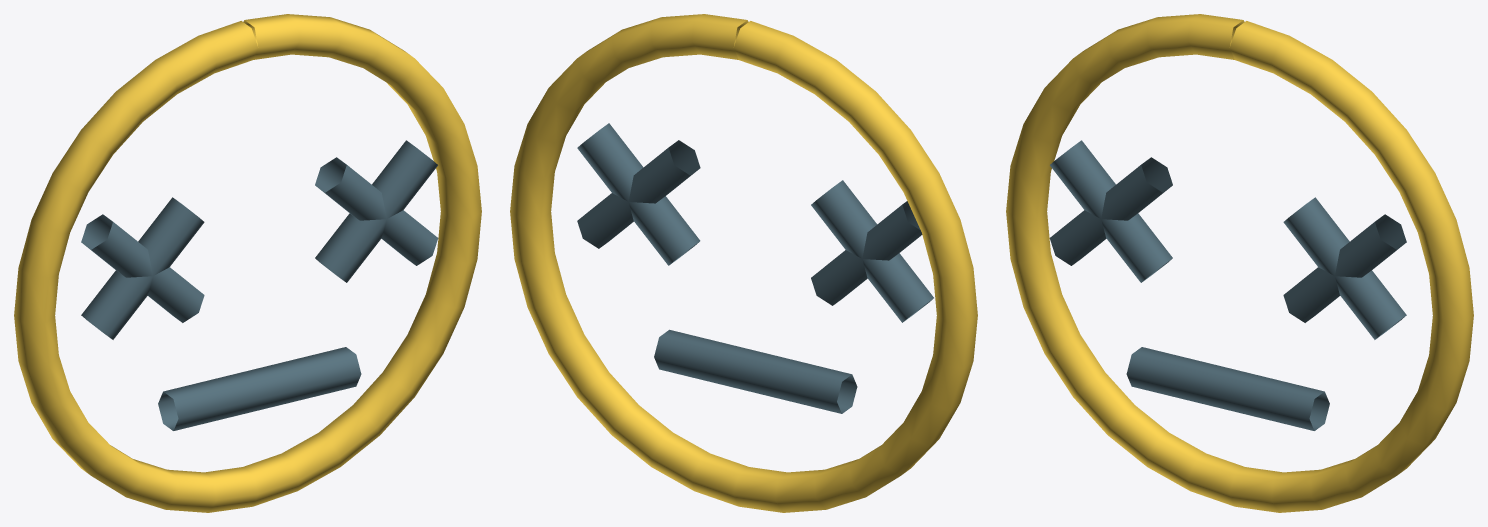
Rendered from status-ko.glb.
3 views of the same model, side by side, from view 1: azimuth 30°, elevation 25°; view 2: azimuth 150°, elevation 25°; view 3: azimuth 330°, elevation 25° (orthographic).
Parts seen in each view (by area): view 1: head-ring, mouth, eye-cross.001, eye-cross.003, eye-cross.002, eye-cross; view 2: head-ring, mouth, eye-cross.001, eye-cross.003, eye-cross.002, eye-cross; view 3: head-ring, mouth, eye-cross, eye-cross.002, eye-cross.001, eye-cross.003.
Boxes of the visible parts, box(x1,y1,x2,y2) form: head-ring: box(14, 14, 481, 512); mouth: box(158, 347, 361, 430); eye-cross.001: box(81, 197, 204, 339); eye-cross.003: box(315, 140, 437, 282); eye-cross.002: box(315, 157, 438, 265); eye-cross: box(81, 214, 204, 322); head-ring: box(510, 14, 977, 512); mouth: box(654, 329, 857, 413); eye-cross.001: box(811, 180, 933, 322); eye-cross.003: box(577, 123, 700, 265); eye-cross.002: box(577, 140, 700, 248); eye-cross: box(811, 201, 922, 305); head-ring: box(1006, 14, 1473, 512); mouth: box(1126, 347, 1329, 430); eye-cross: box(1050, 140, 1172, 282); eye-cross.002: box(1283, 197, 1406, 339); eye-cross.001: box(1049, 157, 1172, 265); eye-cross.003: box(1283, 214, 1406, 322).
Bounding box in the file's own units: 0.9006 × 0.9005 × 0.11.
